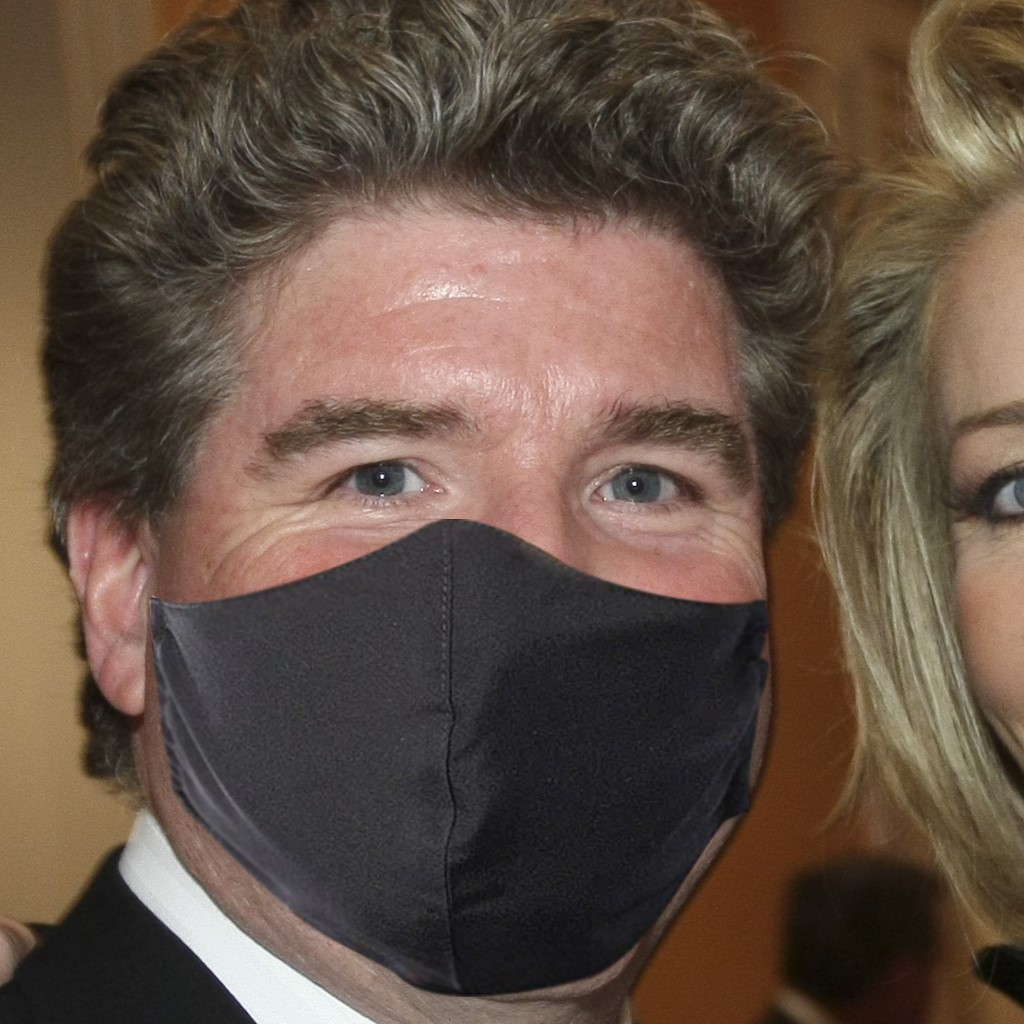con_mascara: (86, 138, 786, 988)
